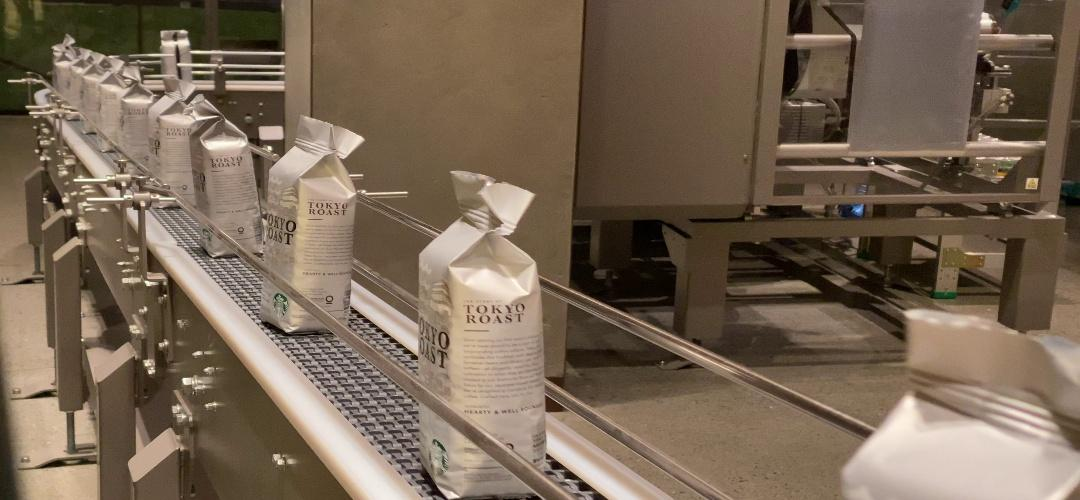conveyor: (418, 252, 544, 388), (268, 158, 356, 261), (190, 136, 260, 201)
